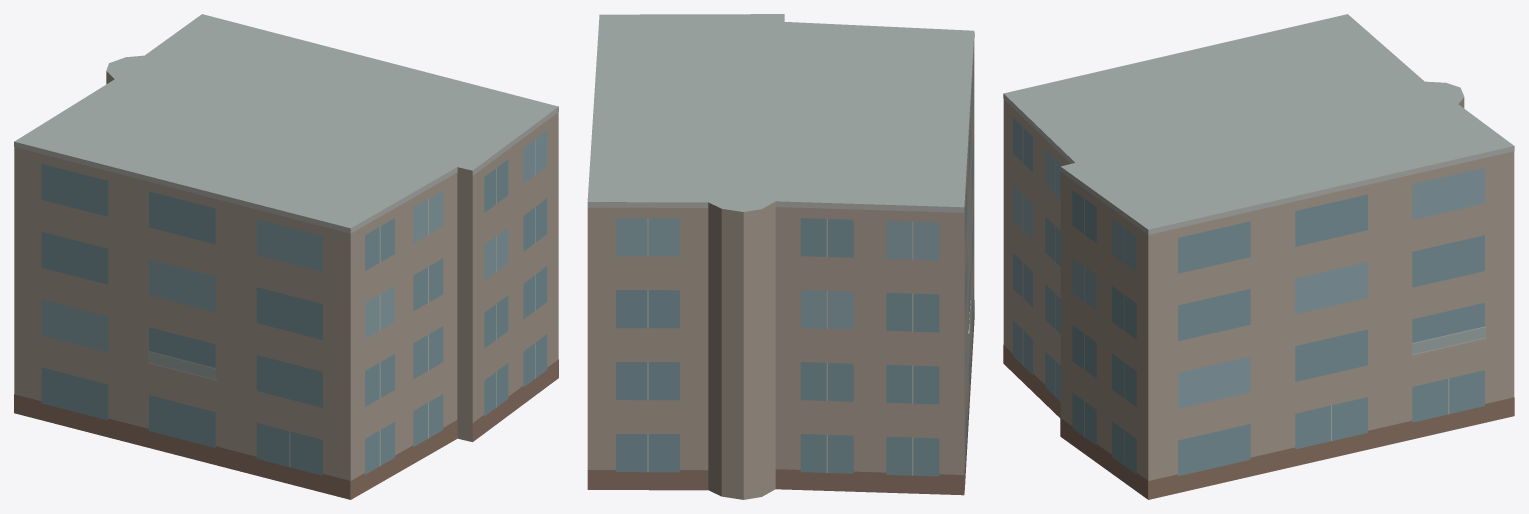
Rendered from survey-upis-32806234.glb.
3 renders of one model, left to right at view 1: azimuth 30°, elevation 25°; view 2: azimuth 150°, elevation 25°; view 3: azimuth 270°, elevation 25°, orthographic. The views are drawn at different scales.
Parts seen in each view (by area): view 1: survey-upis-32806234.tmp; view 2: survey-upis-32806234.tmp; view 3: survey-upis-32806234.tmp.
Boxes of the visible parts, <box> form: survey-upis-32806234.tmp: <box>14,14,558,499</box>; survey-upis-32806234.tmp: <box>587,14,974,499</box>; survey-upis-32806234.tmp: <box>1003,14,1514,499</box>.
Bounding box in the file's own units: 21.42 × 12.5 × 21.44.
